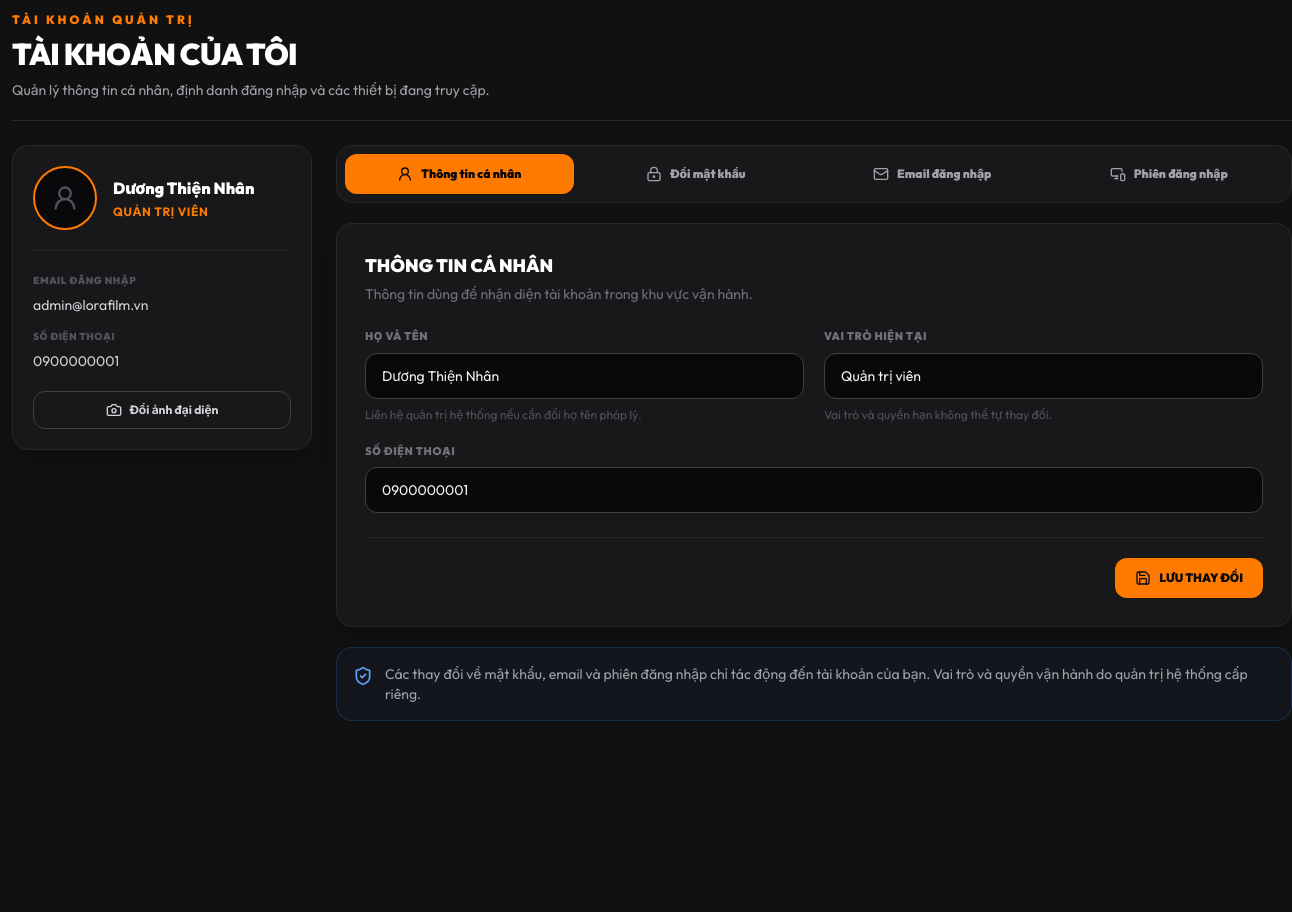
AdminMyAccountPage › shows the real password controls inside the admin layout
What coordinates should you click on to do the following:
click the button "Đổi mật khẩu"
I would click on:
 (696, 174)
Its box is [582,154,810,194].
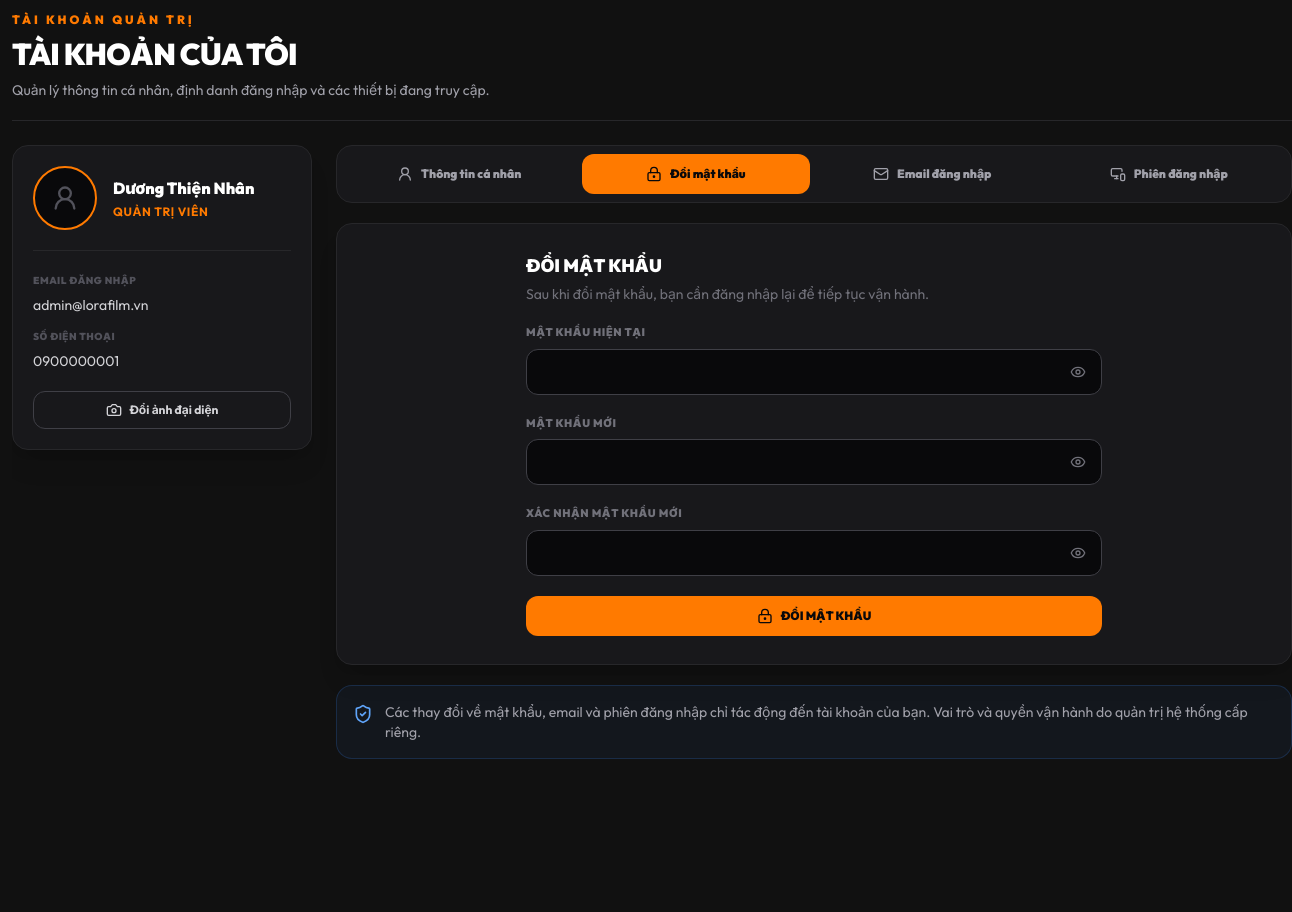
expect the password field labelled "Mật khẩu hiện tại" is shown: met, box [526,348,1102,394]
expect the password field labelled "Mật khẩu mới" is shown: met, box [526,439,1102,485]
expect the password field labelled "Xác nhận mật khẩu mới" is shown: met, box [526,530,1102,576]
